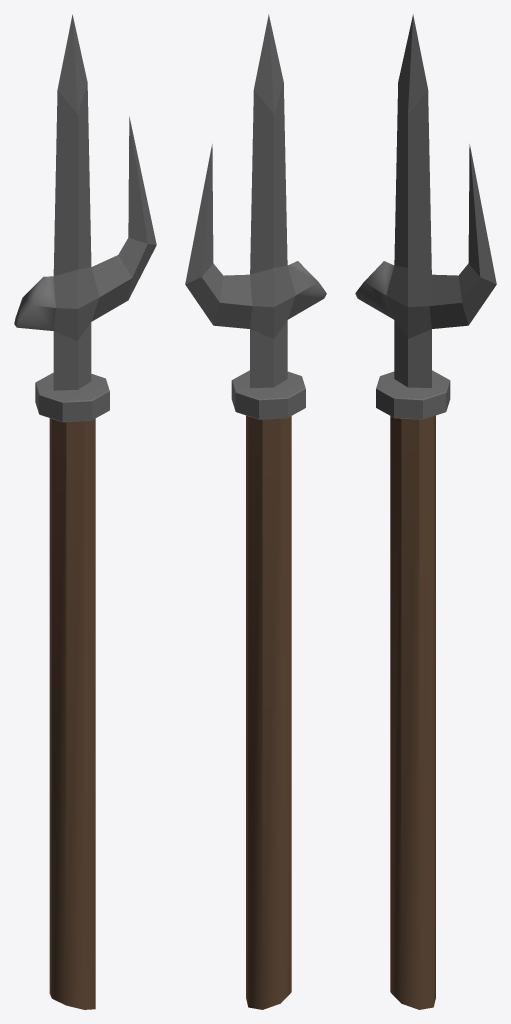
File: Spear2_Broken.fbx
The picture shows the model from 3 angles, left to right: view 1: azimuth 30°, elevation 25°; view 2: azimuth 210°, elevation 25°; view 3: azimuth 330°, elevation 25°; orthographic projection.
Parts seen in each view (by area): view 1: pCylinder7, pCube11; view 2: pCylinder7, pCube11; view 3: pCylinder7, pCube11.
Boxes of the visible parts, box(x1,y1,x2,y2) form: pCylinder7: box(35, 372, 109, 1009); pCube11: box(14, 14, 156, 390); pCylinder7: box(231, 370, 305, 1009); pCube11: box(185, 14, 326, 388); pCylinder7: box(376, 370, 450, 1009); pCube11: box(355, 14, 496, 388).
Size of the model in its own units: 57.06 by 380 by 26.79.
